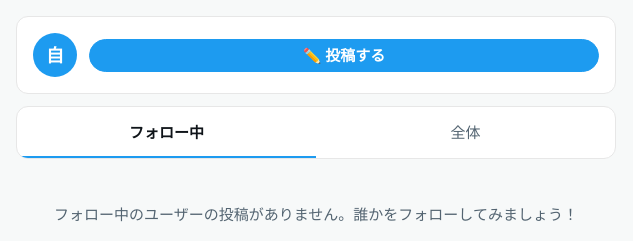
HomePage › タブ切り替え（全体）→ フィードが切り替わり空メッセージも切り替わる
Expected: the text "フォロー中のユーザーの投稿がありません。誰かをフォローしてみましょう！" is shown, [54,205,578,224]
Click the button "全体": x=466, y=132 [316,107,615,158]
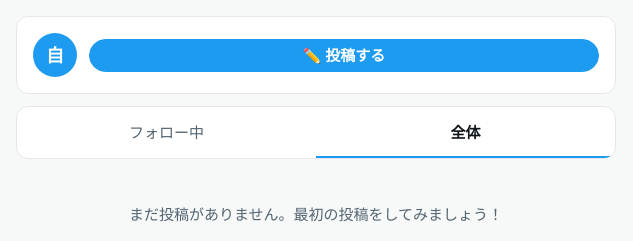
Now the text "まだ投稿がありません。最初の投稿をしてみましょう！" is shown, box [129,205,503,224]
